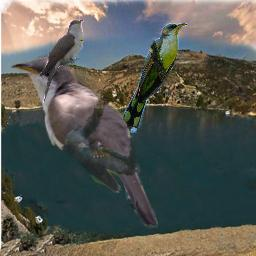Cuckoo: (8, 52, 158, 231), (120, 23, 187, 133), (39, 19, 84, 105)
